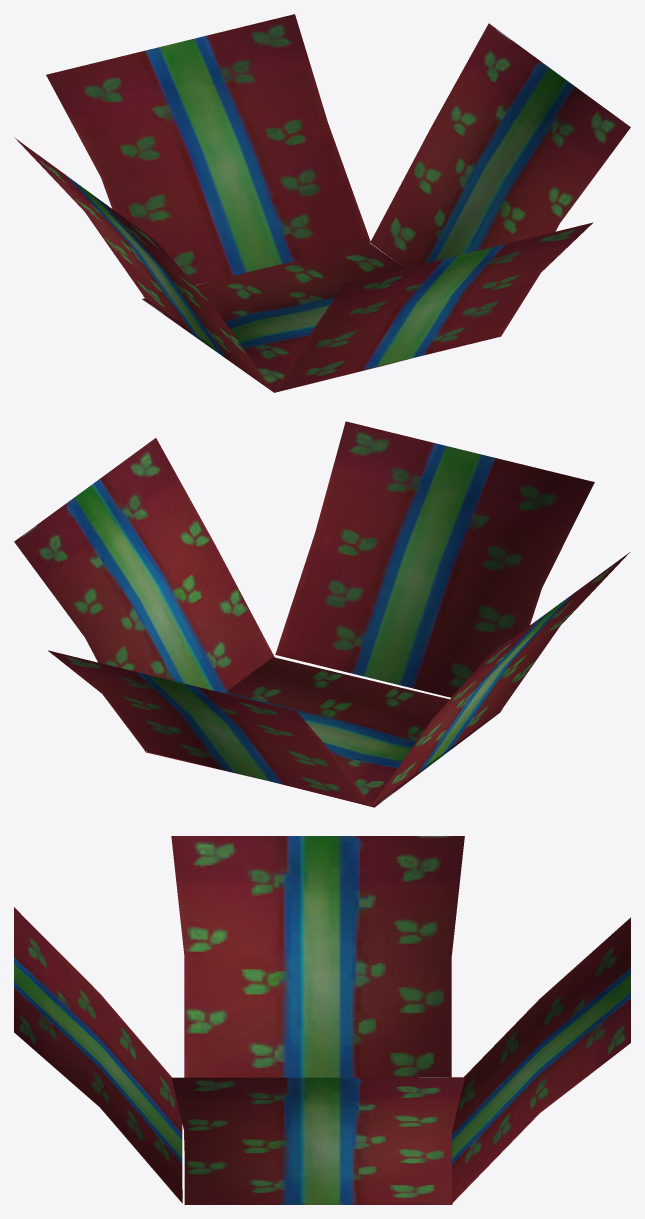
The picture shows the model from 3 angles, top to bottom: view 1: azimuth 30°, elevation 25°; view 2: azimuth 150°, elevation 25°; view 3: azimuth 270°, elevation 25°; orthographic projection. The views are drawn at different scales.
Visible parts, largest first — view 1: element3ds.com-UC13; view 2: element3ds.com-UC13; view 3: element3ds.com-UC13.
Part boxes in pixels (left/top/right/bottom): element3ds.com-UC13: left=14, top=14, right=630, bottom=392; element3ds.com-UC13: left=14, top=421, right=629, bottom=807; element3ds.com-UC13: left=14, top=836, right=630, bottom=1204.
Size of the model in its own units: 1.95 by 0.7308 by 2.12.
1 material, 1 textured.
